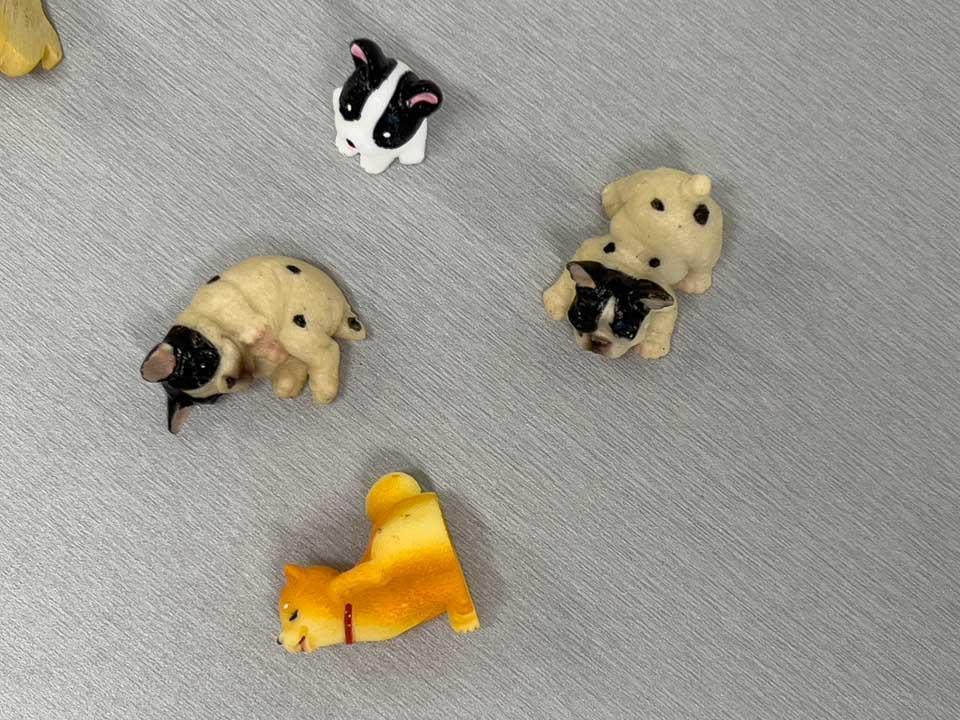pet: (238, 463, 509, 677), (128, 221, 371, 437), (524, 143, 726, 380), (315, 30, 447, 190)
